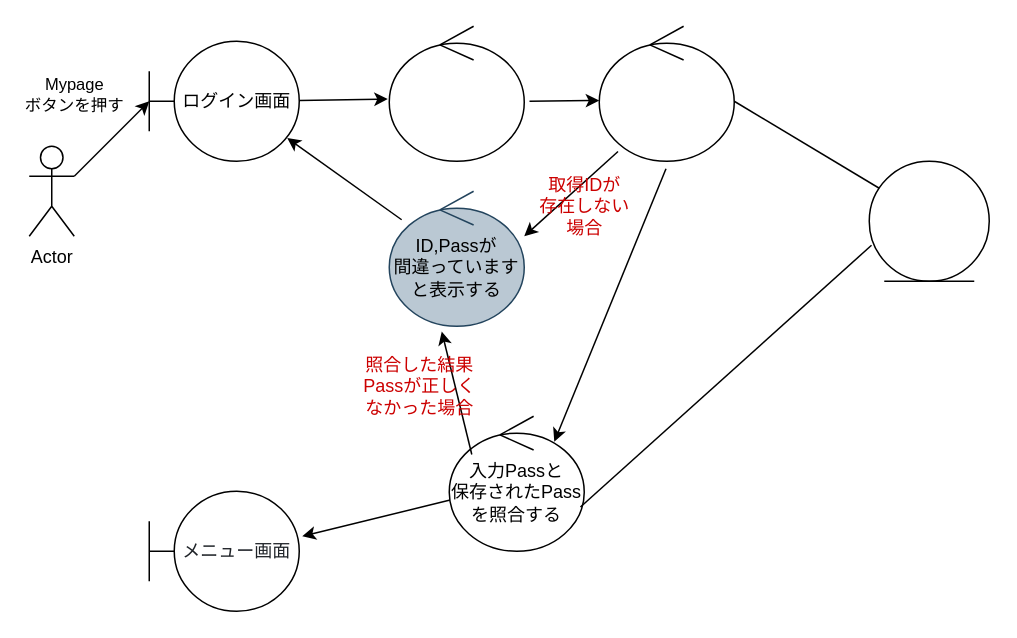
The diagram is 1017 pixels wide and 638 high, and some of its shapes have lost their labels. The box of each missing label's shape, as (x1, y1, x2, y2) in pixels:
IDを取得する: (598, 25, 734, 161)
ID・Pass 入力後 ログイン ボタンを押す: (388, 25, 524, 161)
従業員台帳: (868, 160, 989, 281)
